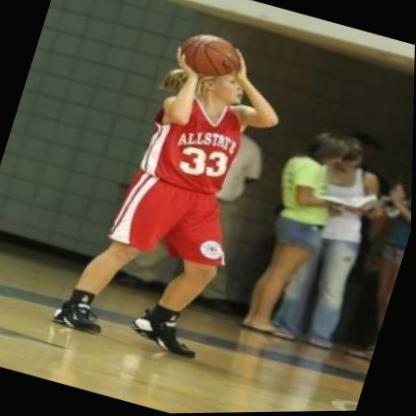basketball: (178, 29, 249, 89)
